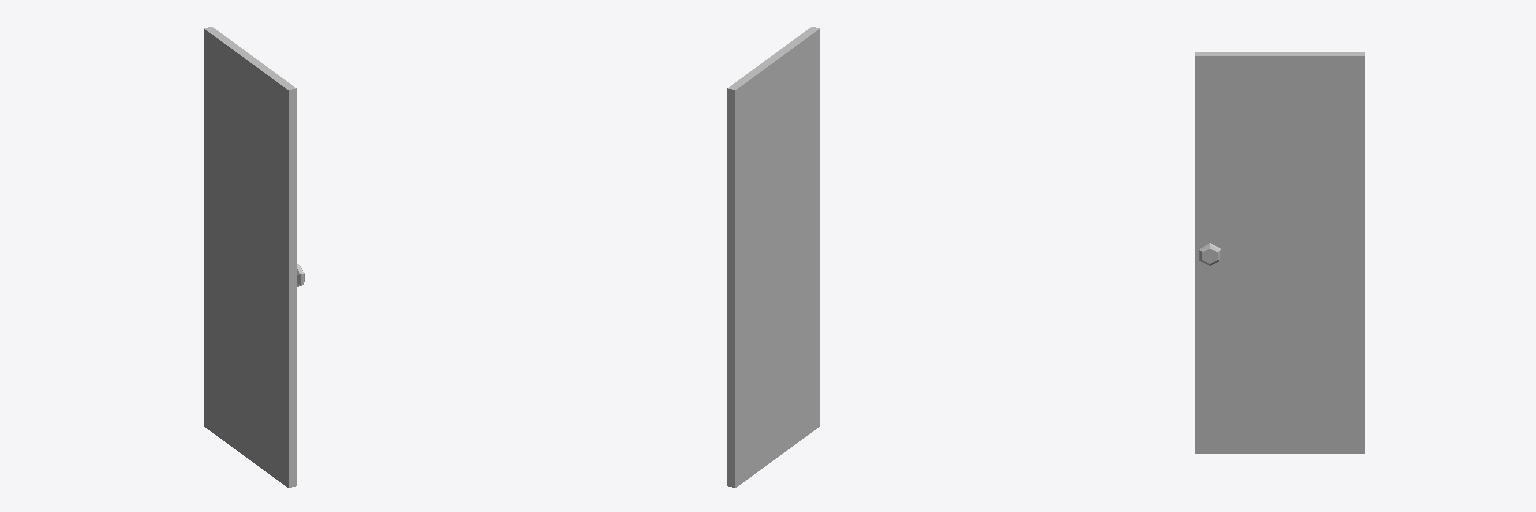
Rendered from door.obj.
The picture shows the model from 3 angles: view 1: azimuth 30°, elevation 25°; view 2: azimuth 150°, elevation 25°; view 3: azimuth 270°, elevation 25°; orthographic projection.
Parts seen in each view (by area): view 1: Plane.001; view 2: Plane.001; view 3: Plane.001.
Boxes of the visible parts, <box> form: Plane.001: <box>204,27,304,487</box>; Plane.001: <box>727,27,819,487</box>; Plane.001: <box>1195,52,1364,453</box>.
Size of the model in its own units: 0.1071 by 2.08 by 0.8026.